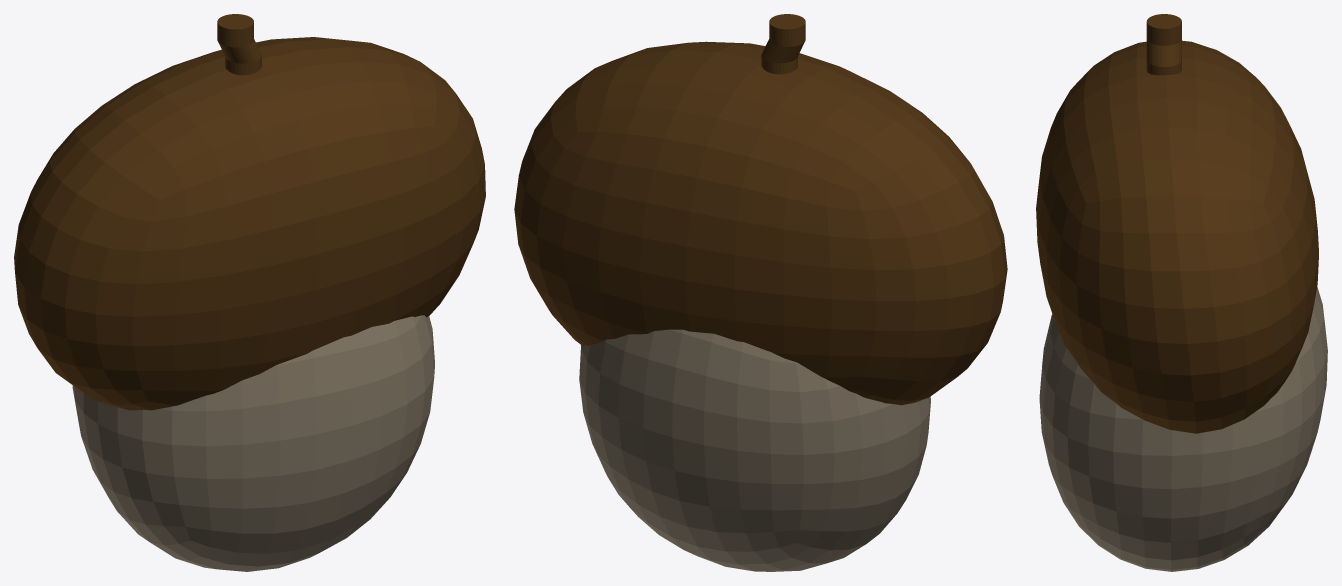
Rendered from acorn.fbx.
3 renders of one model, left to right at view 1: azimuth 30°, elevation 25°; view 2: azimuth 150°, elevation 25°; view 3: azimuth 270°, elevation 25°, orthographic. The views are drawn at different scales.
Parts seen in each view (by area): view 1: Cube; view 2: Cube; view 3: Cube.
Part boxes in pixels (x1,y1,x2,y2): Cube: (14, 14, 485, 571); Cube: (514, 14, 1007, 571); Cube: (1036, 14, 1327, 571).
Bounding box in the file's own units: 104 × 118 × 59.73.
